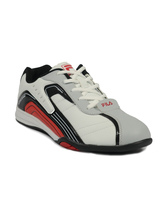shoes: (14, 60, 155, 156)
